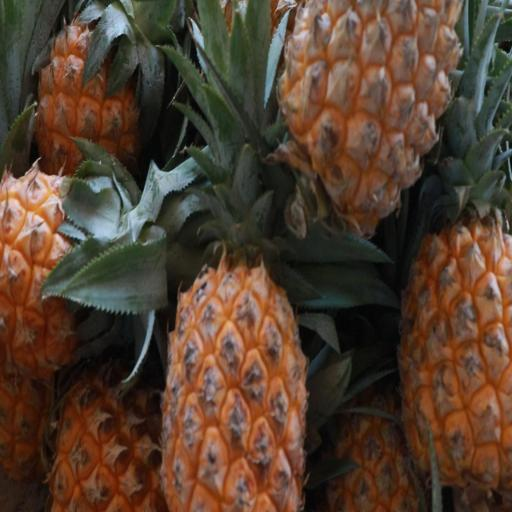Pineapple - v8 v1: (274, 0, 468, 257), (394, 151, 512, 512), (159, 239, 308, 512), (0, 156, 146, 384), (31, 1, 152, 210), (40, 351, 174, 512)
